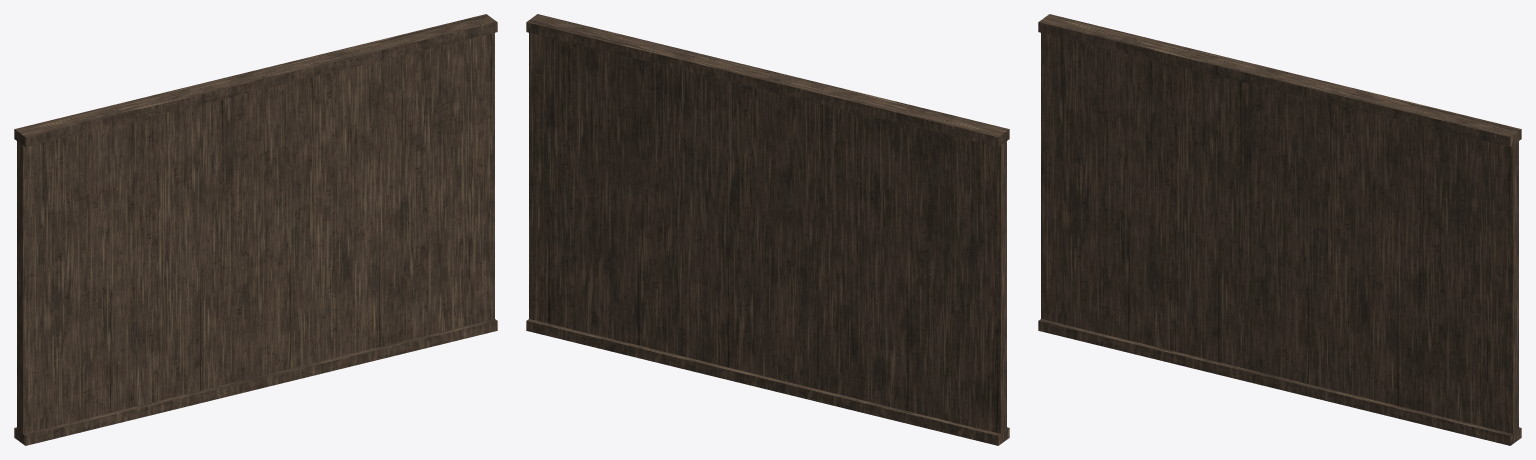
File: SM_Wall_02.fbx
3 views of the same model, side by side, from view 1: azimuth 30°, elevation 25°; view 2: azimuth 150°, elevation 25°; view 3: azimuth 330°, elevation 25° (orthographic).
Parts seen in each view (by area): view 1: SM_Wall_02_LOD0; view 2: SM_Wall_02_LOD0; view 3: SM_Wall_02_LOD0.
Part boxes in pixels (<box>): SM_Wall_02_LOD0: <box>14,14,497,445</box>; SM_Wall_02_LOD0: <box>526,14,1009,445</box>; SM_Wall_02_LOD0: <box>1038,14,1521,445</box>.
Size of the model in its own units: 2007 by 81.85 by 1255.
